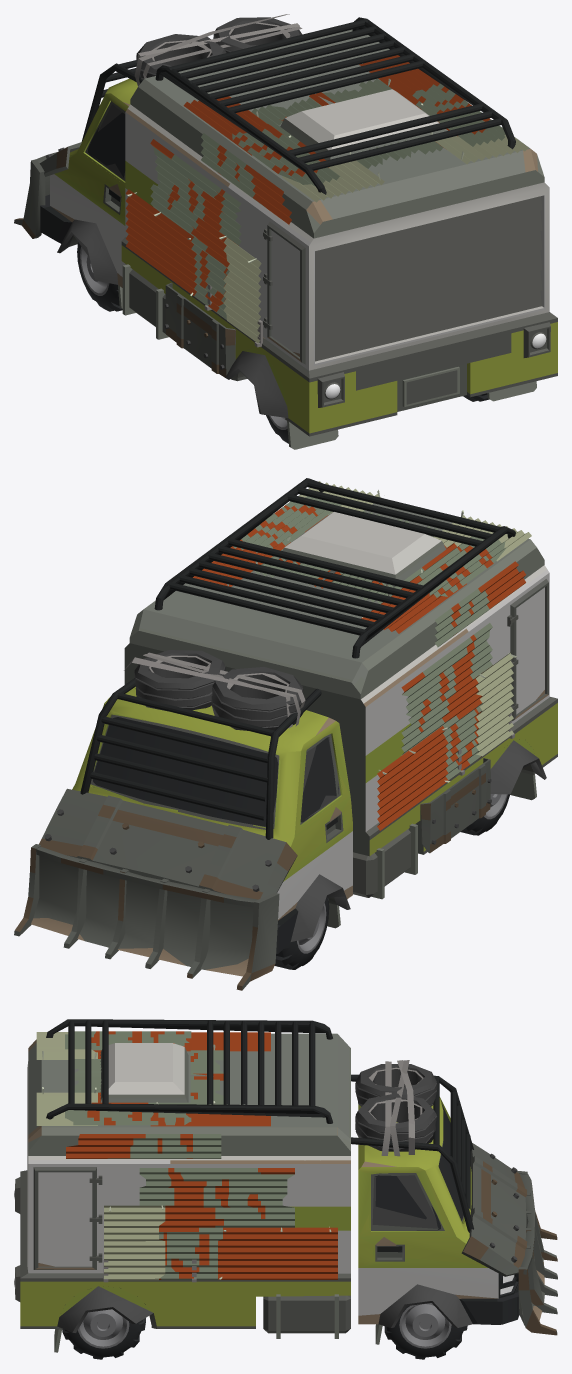
File: car_overlord.glb
3 renders of one model, top to bottom at view 1: azimuth 30°, elevation 25°; view 2: azimuth 150°, elevation 25°; view 3: azimuth 270°, elevation 25°, orthographic. The views are drawn at different scales.
Visible parts, largest first — view 1: body_mesh, armor_3_mesh, armor_2_mesh, armor_1_mesh, wheel_FL_mesh; view 2: armor_2_mesh, body_mesh, armor_3_mesh, armor_1_mesh, wheel_FL_mesh, wheel_RL_mesh; view 3: armor_2_mesh, body_mesh, armor_3_mesh, armor_1_mesh, wheel_FR_mesh, wheel_RR_mesh.
Part boxes in pixels (<box>): body_mesh: <box>40,78,557,449</box>; armor_3_mesh: <box>119,14,528,224</box>; armor_2_mesh: <box>14,29,545,417</box>; armor_1_mesh: <box>81,63,261,377</box>; wheel_FL_mesh: <box>77,242,122,311</box>; armor_2_mesh: <box>14,488,551,990</box>; body_mesh: <box>72,512,557,954</box>; armor_3_mesh: <box>117,478,531,736</box>; armor_1_mesh: <box>80,623,513,853</box>; wheel_FL_mesh: <box>274,897,329,969</box>; wheel_RL_mesh: <box>460,794,509,835</box>; armor_2_mesh: <box>26,1033,557,1335</box>; body_mesh: <box>14,1043,519,1352</box>; armor_3_mesh: <box>36,1019,439,1158</box>; armor_1_mesh: <box>104,1074,473,1282</box>; wheel_FR_mesh: <box>384,1303,467,1359</box>; wheel_RR_mesh: <box>62,1309,145,1359</box>.
Bounding box in the file's own units: 3.11 × 3.03 × 5.85.
Materials: 3 (1 with a texture image).
